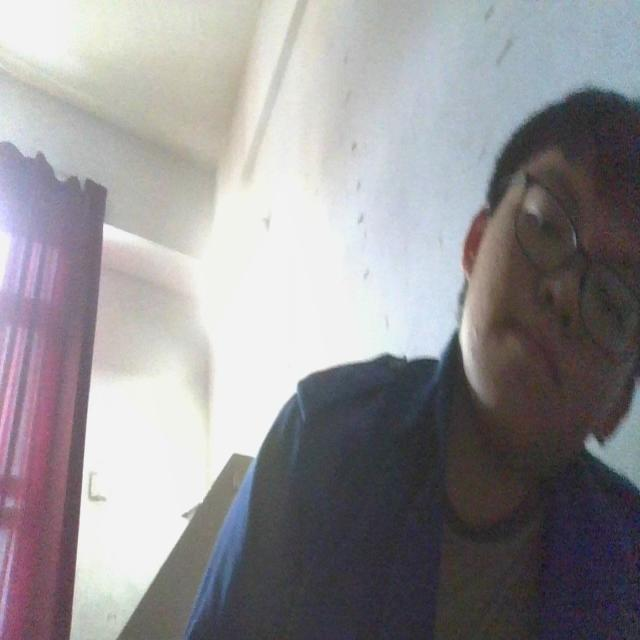person_with_labcoat: (184, 89, 640, 639)
